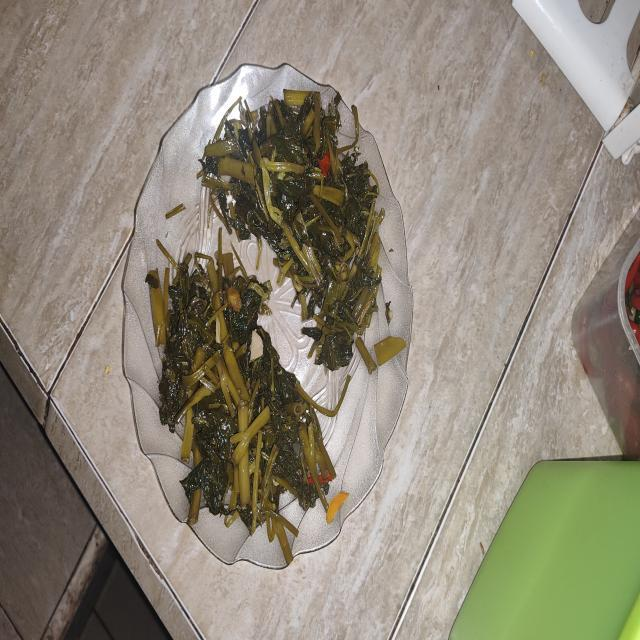tumis_kangkung: (147, 253, 336, 541), (205, 90, 384, 359)
